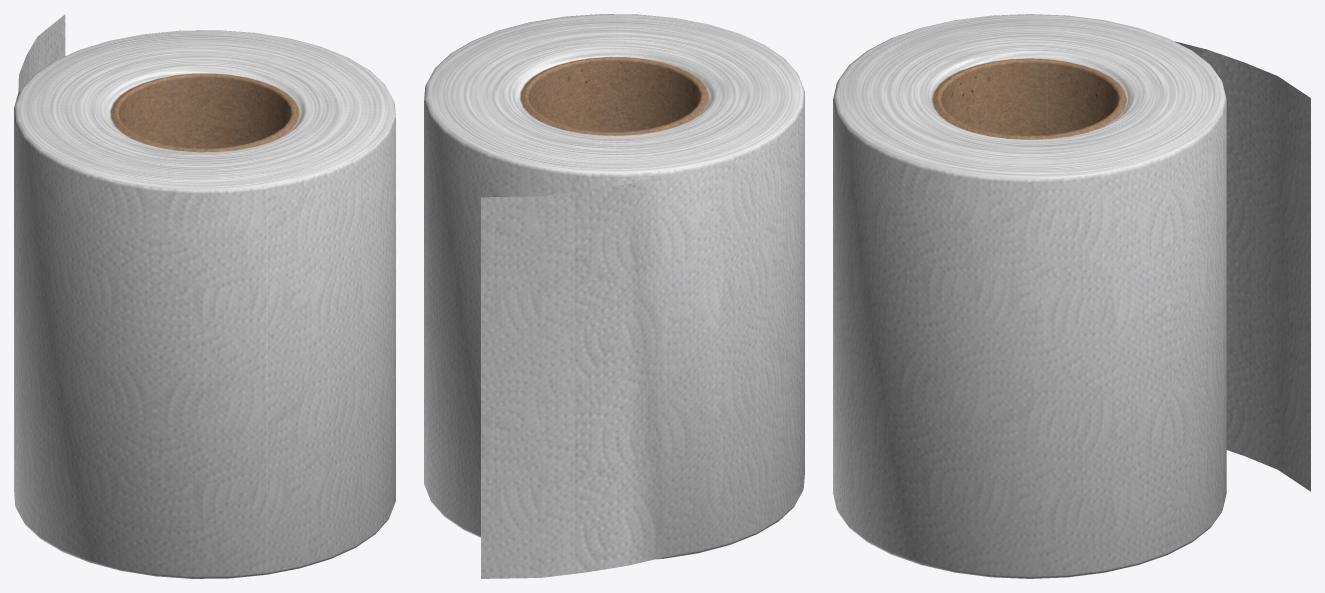
File: simple_toilet_paper_2.0.glb
The picture shows the model from 3 angles, left to right: view 1: azimuth 30°, elevation 25°; view 2: azimuth 150°, elevation 25°; view 3: azimuth 270°, elevation 25°; orthographic projection. The views are drawn at different scales.
Parts seen in each view (by area): view 1: Object_2; view 2: Object_2; view 3: Object_2.
Part boxes in pixels (<box>): Object_2: <box>14,14,395,578</box>; Object_2: <box>424,14,804,578</box>; Object_2: <box>833,14,1310,578</box>.
Bounding box in the file's own units: 1.77 × 2 × 2.15.
Materials: 1 (1 with a texture image).
